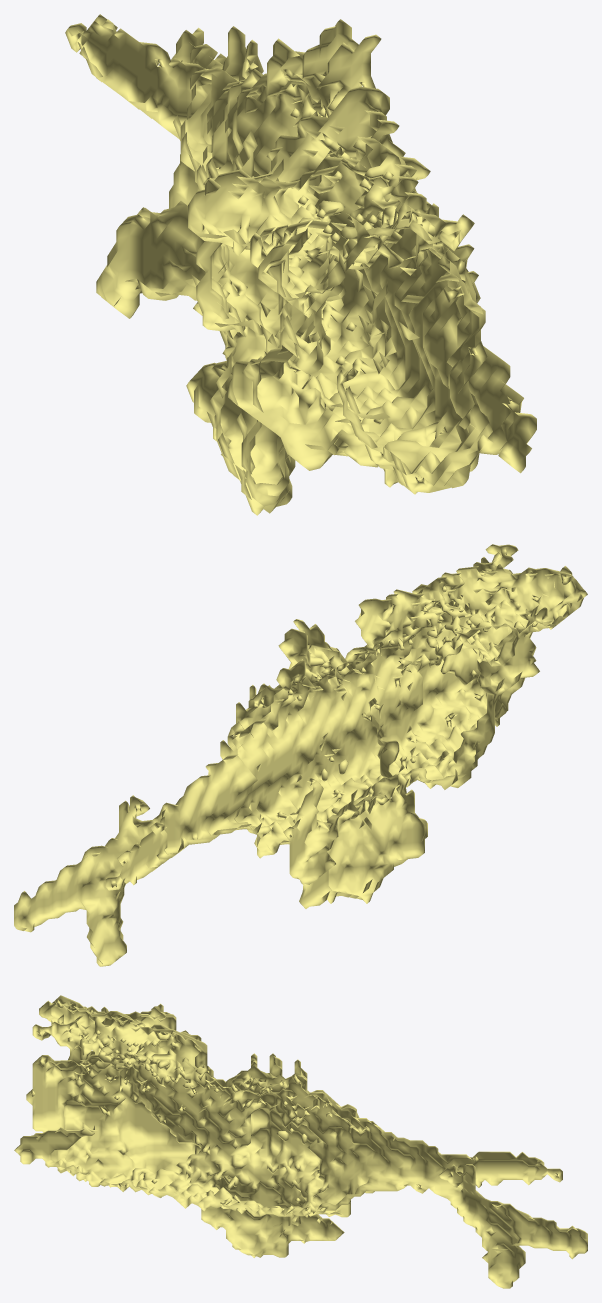
Rendered from osteocyte_124.glb.
3 renders of one model, top to bottom at view 1: azimuth 30°, elevation 25°; view 2: azimuth 150°, elevation 25°; view 3: azimuth 270°, elevation 25°, orthographic. The views are drawn at different scales.
Parts seen in each view (by area): view 1: osteocyte_124; view 2: osteocyte_124; view 3: osteocyte_124.
Part boxes in pixels (box(x1,y1,x2,y2)): osteocyte_124: box(65, 14, 536, 515); osteocyte_124: box(14, 544, 587, 966); osteocyte_124: box(14, 995, 587, 1288).
Size of the model in its own units: 19.74 by 19.26 by 44.3.
